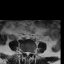CCS_normal: (26, 49, 28, 58)
LFS_normal: (30, 49, 32, 56)
LLS_normal: (28, 49, 30, 57)
RFS_normal: (23, 48, 24, 56)
RLS_normal: (24, 49, 26, 56)
